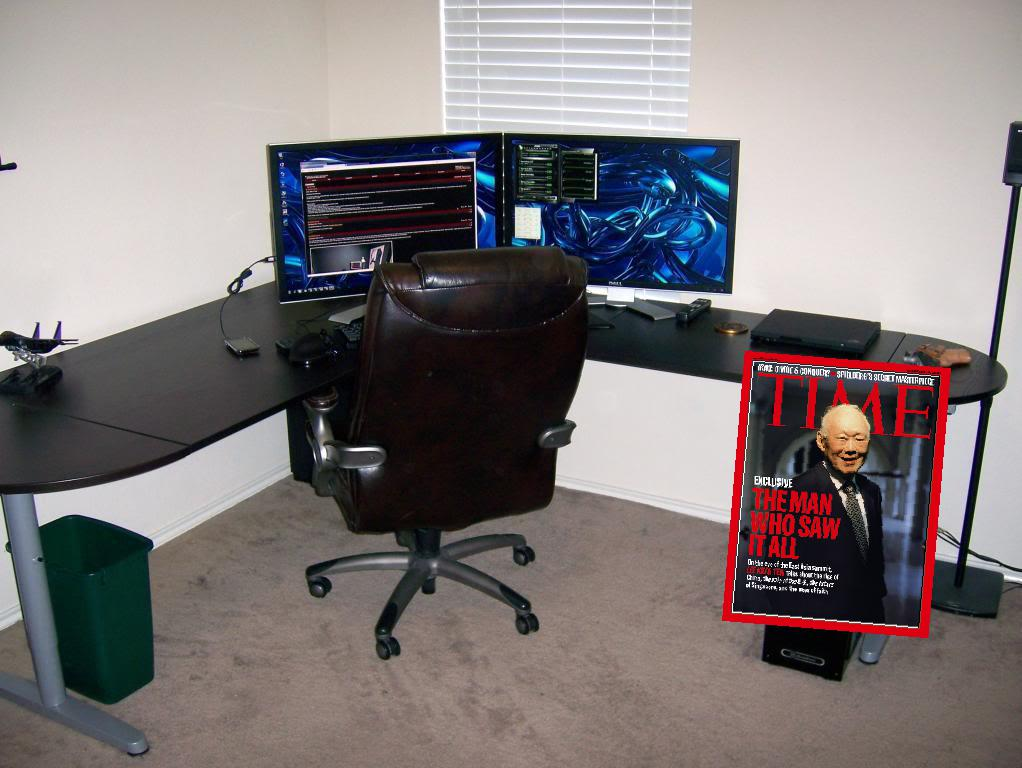times: (720, 349, 954, 641)
